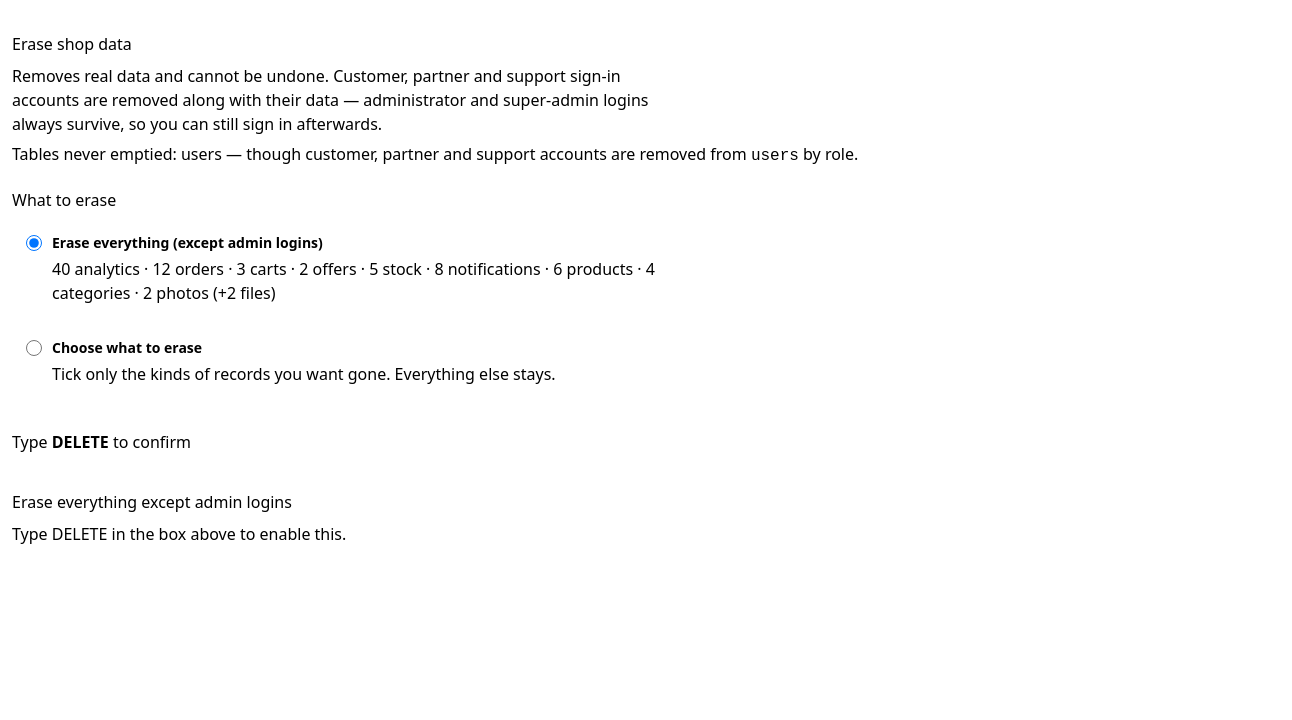
Test case: DataResetPanel — choose what to erase (#71) › shows a live summary and Select all / Clear
Expected: the heading "Erase shop data" is shown, 12,33 -> 132,55
Click the radio button labelled "Choose what to erase": (34, 348) 26,340 -> 42,356
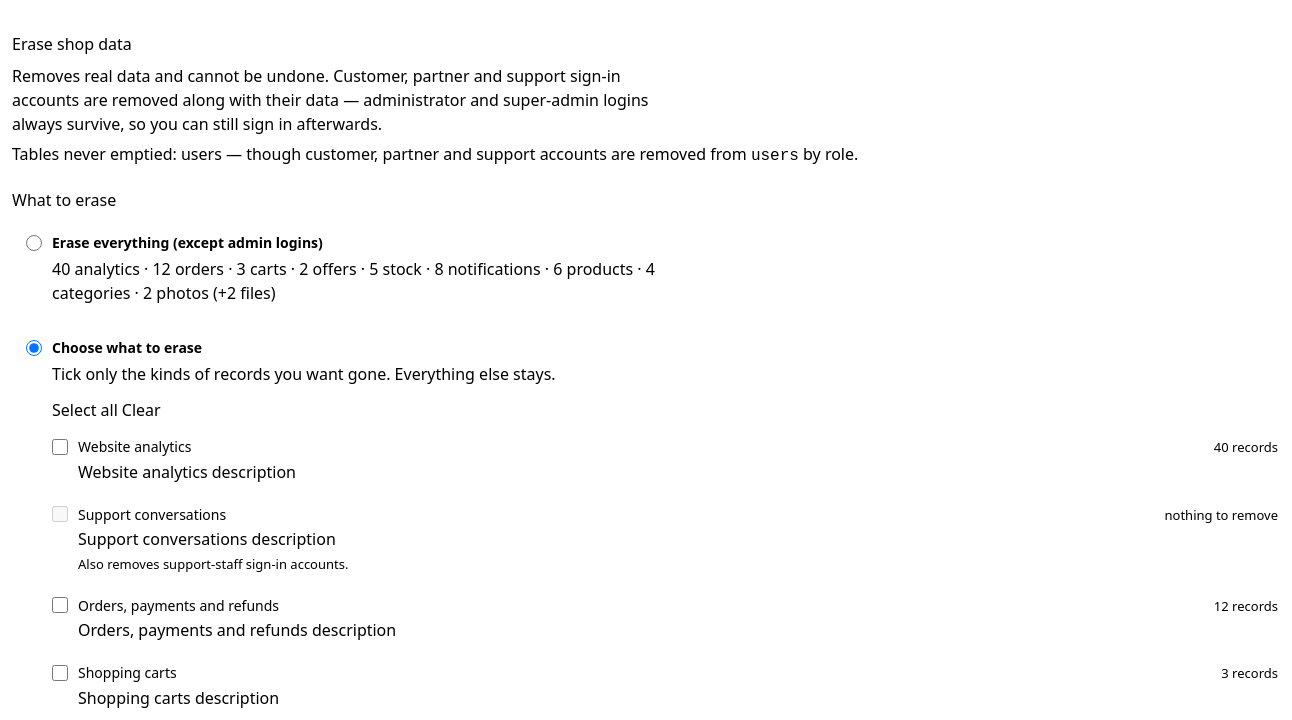
Click the checkbox labelled "Website analytics 40 records": (60, 447) 52,439 -> 68,455
(page scrolled)
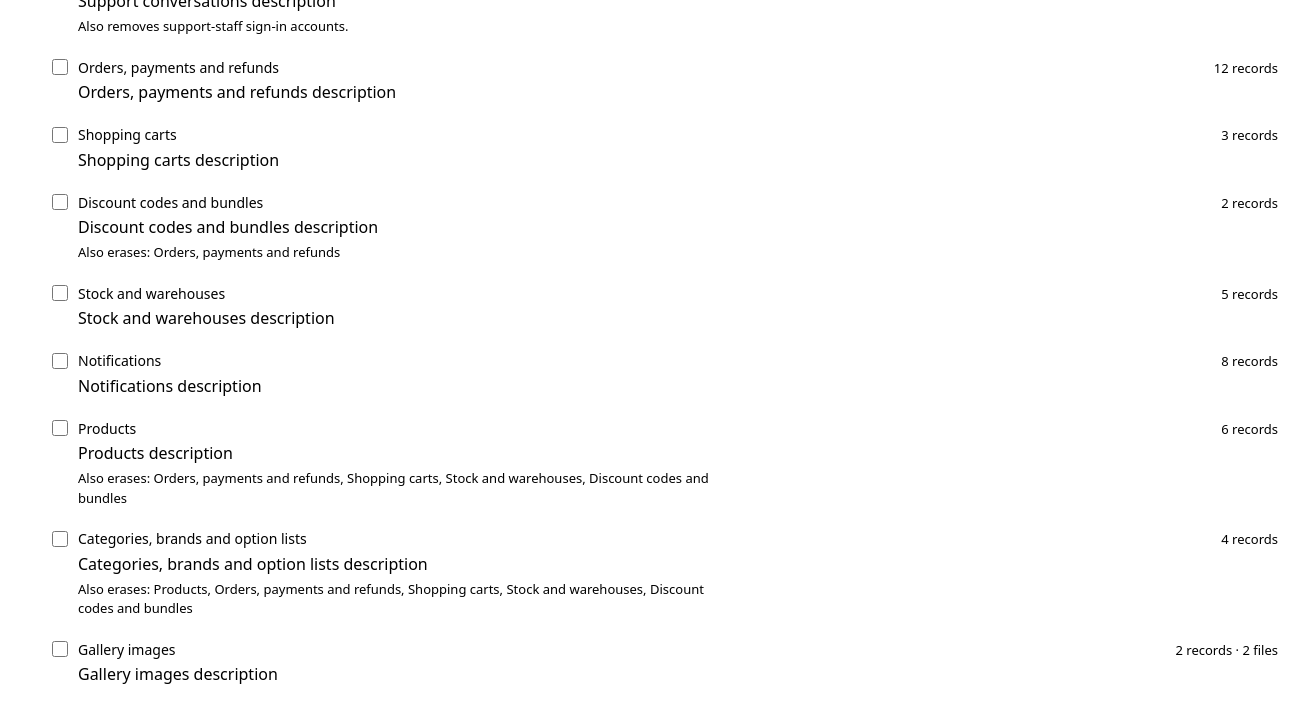
Click the checkbox labelled "Notifications 8 records": (60, 361) 52,353 -> 68,369
(page scrolled)
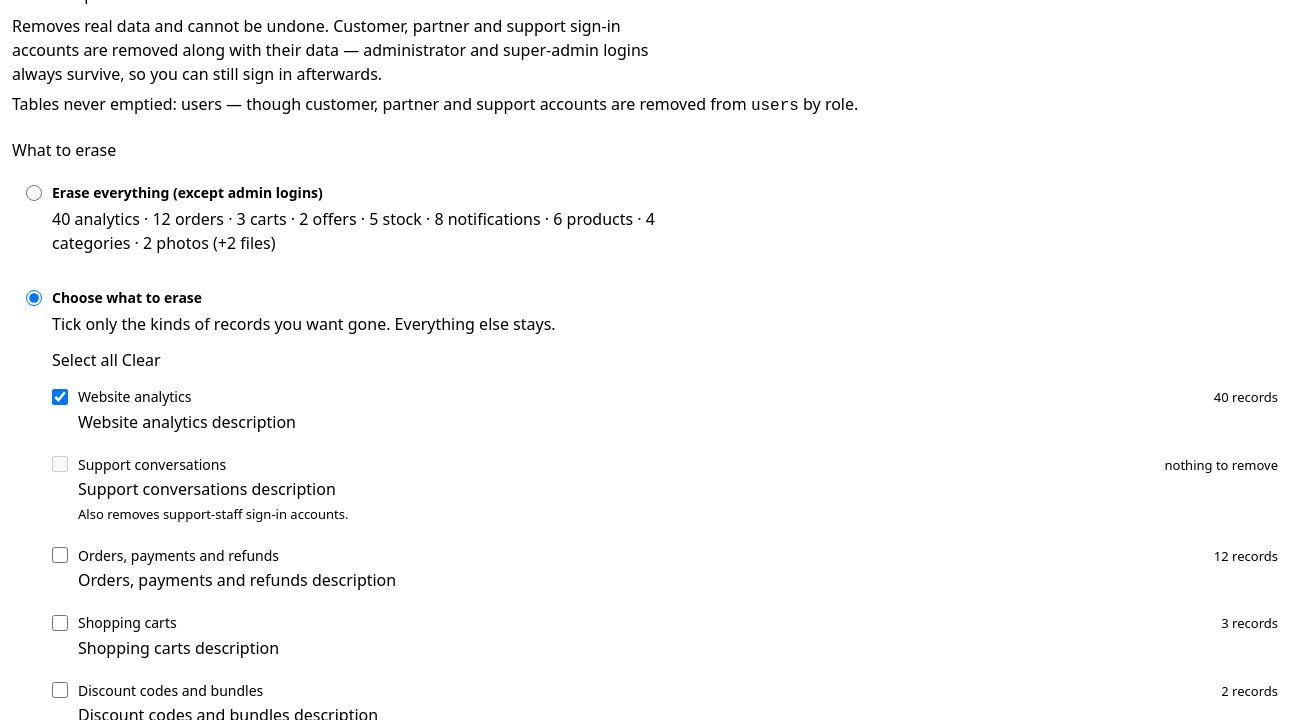
Click the button "Select all": (85, 360) 52,348 -> 118,372
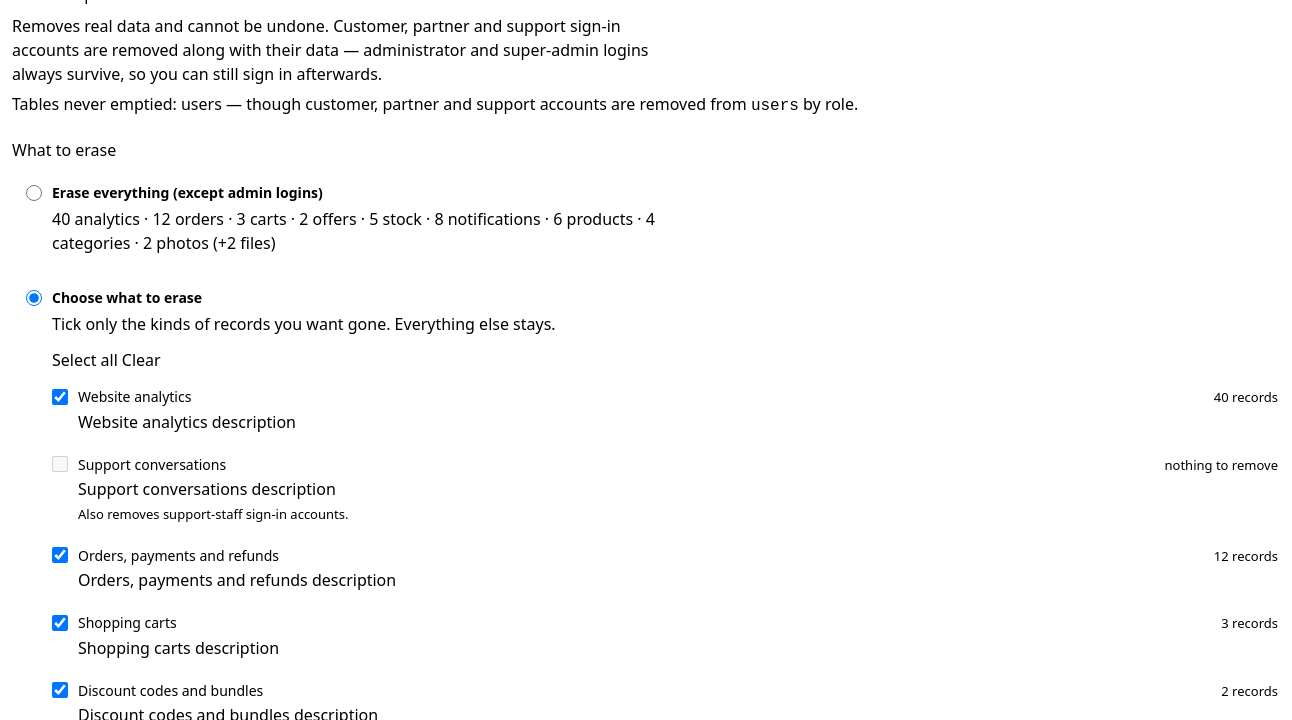
Click the button "Clear": (141, 360) 122,348 -> 161,372
(page scrolled)
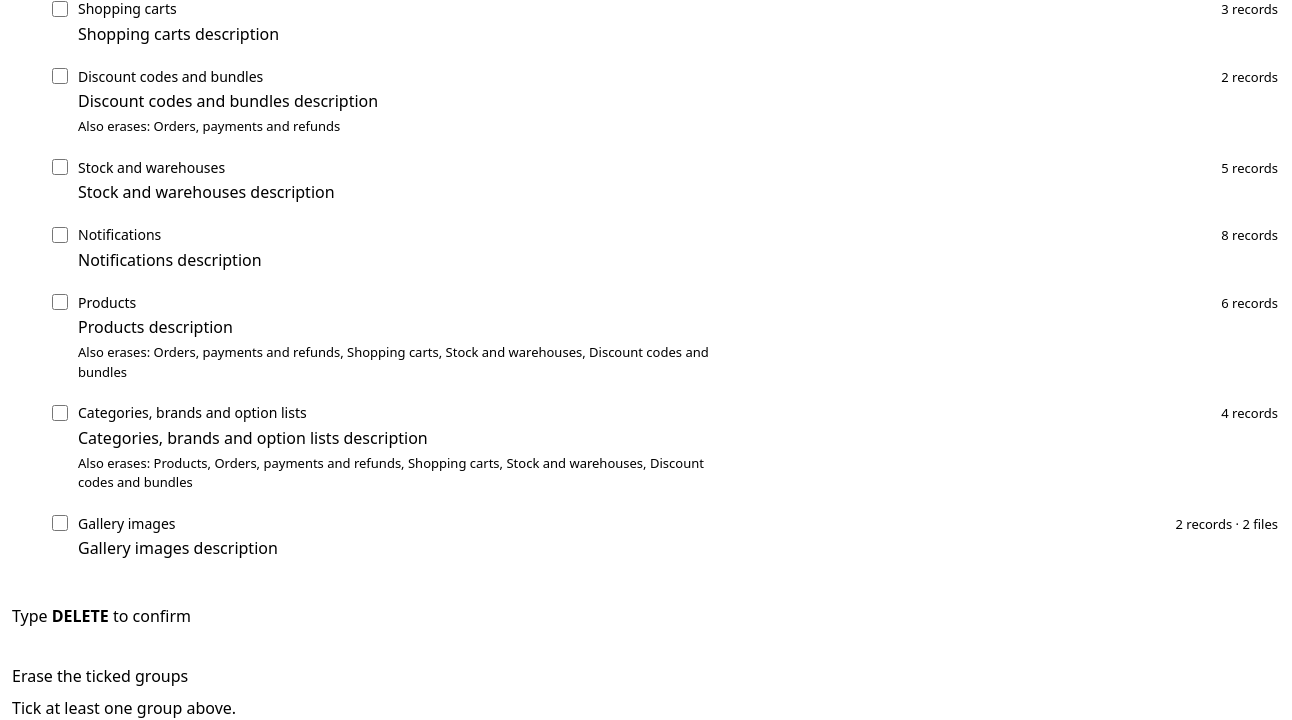
Result: the text "Tick at least one group above." is shown at 12,697 -> 236,719
